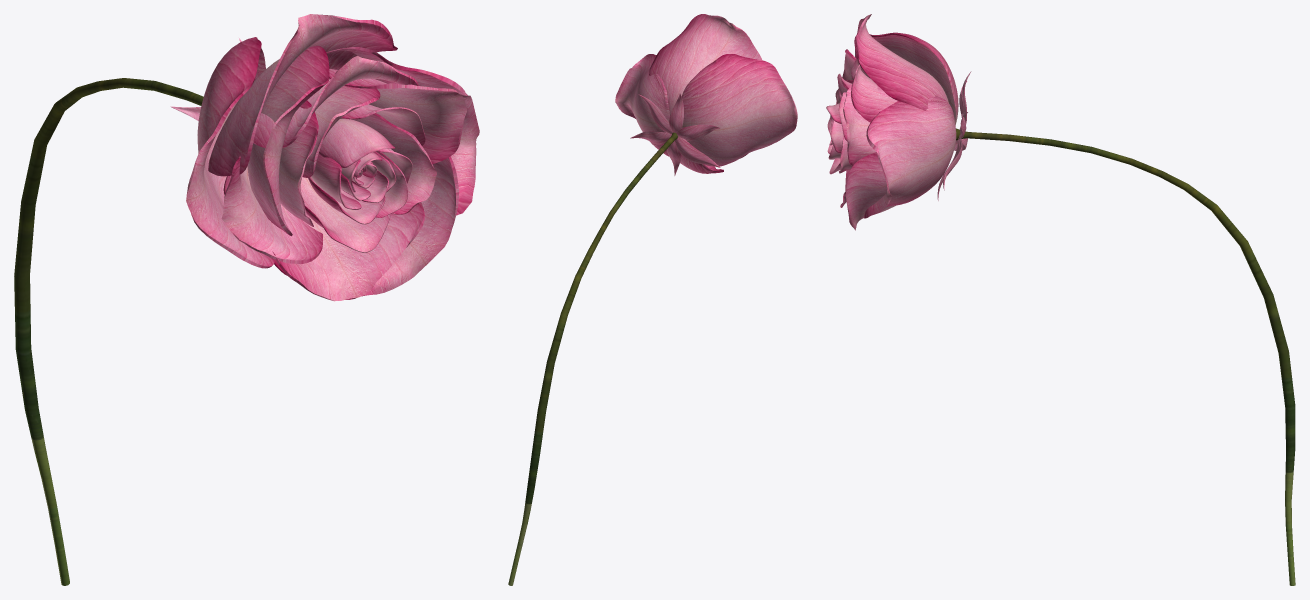
The model's file is rose1.glb.
The picture shows the model from 3 angles, left to right: view 1: azimuth 30°, elevation 25°; view 2: azimuth 150°, elevation 25°; view 3: azimuth 270°, elevation 25°; orthographic projection. The views are drawn at different scales.
Visible parts, largest first — view 1: base, Subdivision_Surface.041, Subdivision_Surface.040, Subdivision_Surface.046, Subdivision_Surface.043, Subdivision_Surface.042, Subdivision_Surface.045, Subdivision_Surface.039, Subdivision_Surface.002, Subdivision_Surface.044, Subdivision_Surface.050, Subdivision_Surface.049 (+7 smaller); view 2: Subdivision_Surface.040, Subdivision_Surface.041, base, Subdivision_Surface.002, Petals_2.001, Petals_1.001, Petals_6.001, Petals_5.001; view 3: Subdivision_Surface.002, base, Subdivision_Surface.041, Subdivision_Surface.040, Subdivision_Surface.039, Subdivision_Surface.044, Subdivision_Surface.045.
Part boxes in pixels (<box>): base: <box>14,78,203,585</box>; Subdivision_Surface.041: <box>208,14,397,176</box>; Subdivision_Surface.040: <box>186,37,274,268</box>; Subdivision_Surface.046: <box>223,175,424,301</box>; Subdivision_Surface.043: <box>247,45,329,236</box>; Subdivision_Surface.042: <box>221,156,322,263</box>; Subdivision_Surface.045: <box>329,69,466,163</box>; Subdivision_Surface.039: <box>272,156,458,299</box>; Subdivision_Surface.002: <box>326,47,479,215</box>; Subdivision_Surface.044: <box>253,56,418,147</box>; Subdivision_Surface.050: <box>300,177,391,252</box>; Subdivision_Surface.049: <box>340,113,436,214</box>; Subdivision_Surface.040: <box>681,54,797,166</box>; Subdivision_Surface.041: <box>649,14,761,115</box>; base: <box>508,132,677,585</box>; Subdivision_Surface.002: <box>615,54,669,156</box>; Petals_2.001: <box>674,136,720,167</box>; Petals_1.001: <box>676,124,720,140</box>; Petals_6.001: <box>669,93,683,132</box>; Petals_5.001: <box>638,94,672,134</box>; Subdivision_Surface.002: <box>864,96,956,218</box>; base: <box>956,128,1295,585</box>; Subdivision_Surface.041: <box>854,14,948,110</box>; Subdivision_Surface.040: <box>869,32,958,125</box>; Subdivision_Surface.039: <box>846,152,896,230</box>; Subdivision_Surface.044: <box>851,58,897,122</box>; Subdivision_Surface.045: <box>843,85,890,165</box>.
Bounding box in the file's own units: 32.45 × 81.41 × 63.32.
2 materials, 2 textured.
